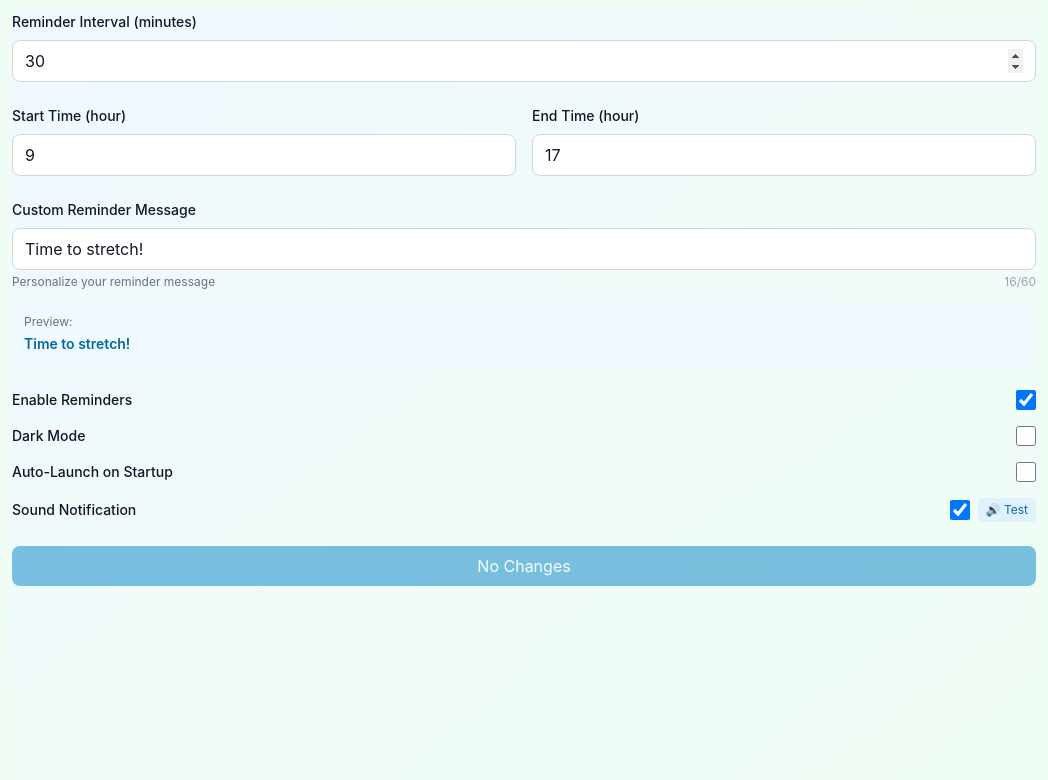
SettingsForm › should enable save button when changes are made
Replace the text in the number field labelled "Reminder Interval (minutes)" with "45" at (524, 61), box [12,40,1036,82]
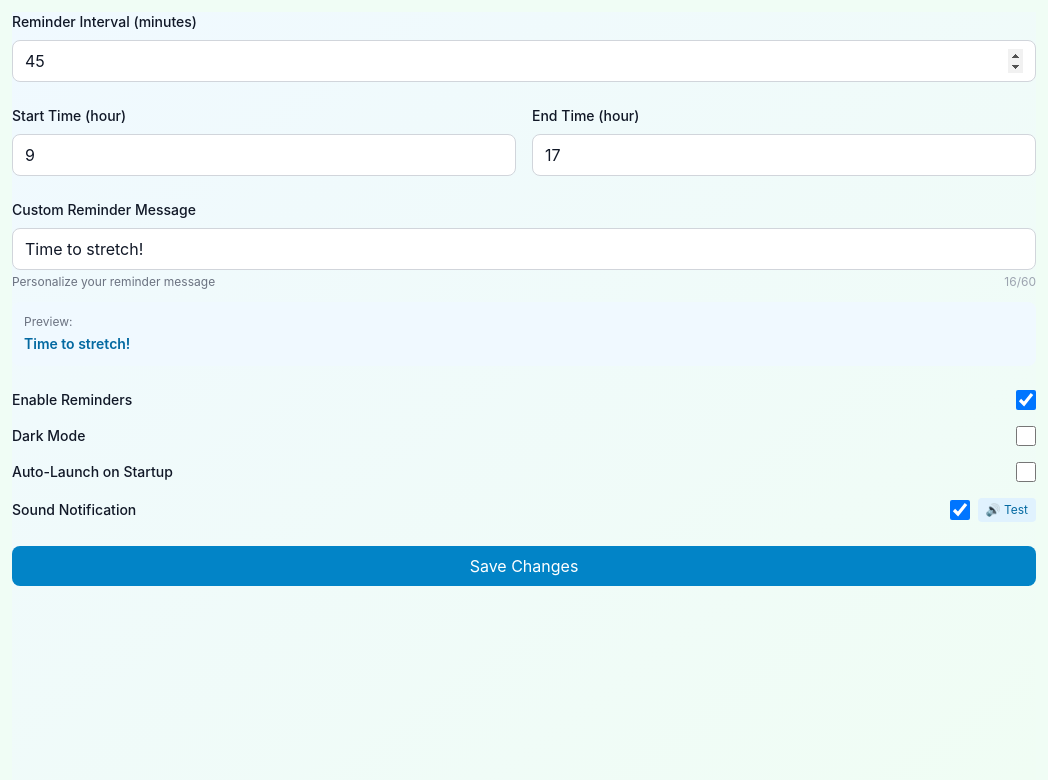
Now the button "Save Changes" is shown, box [12,546,1036,586]
